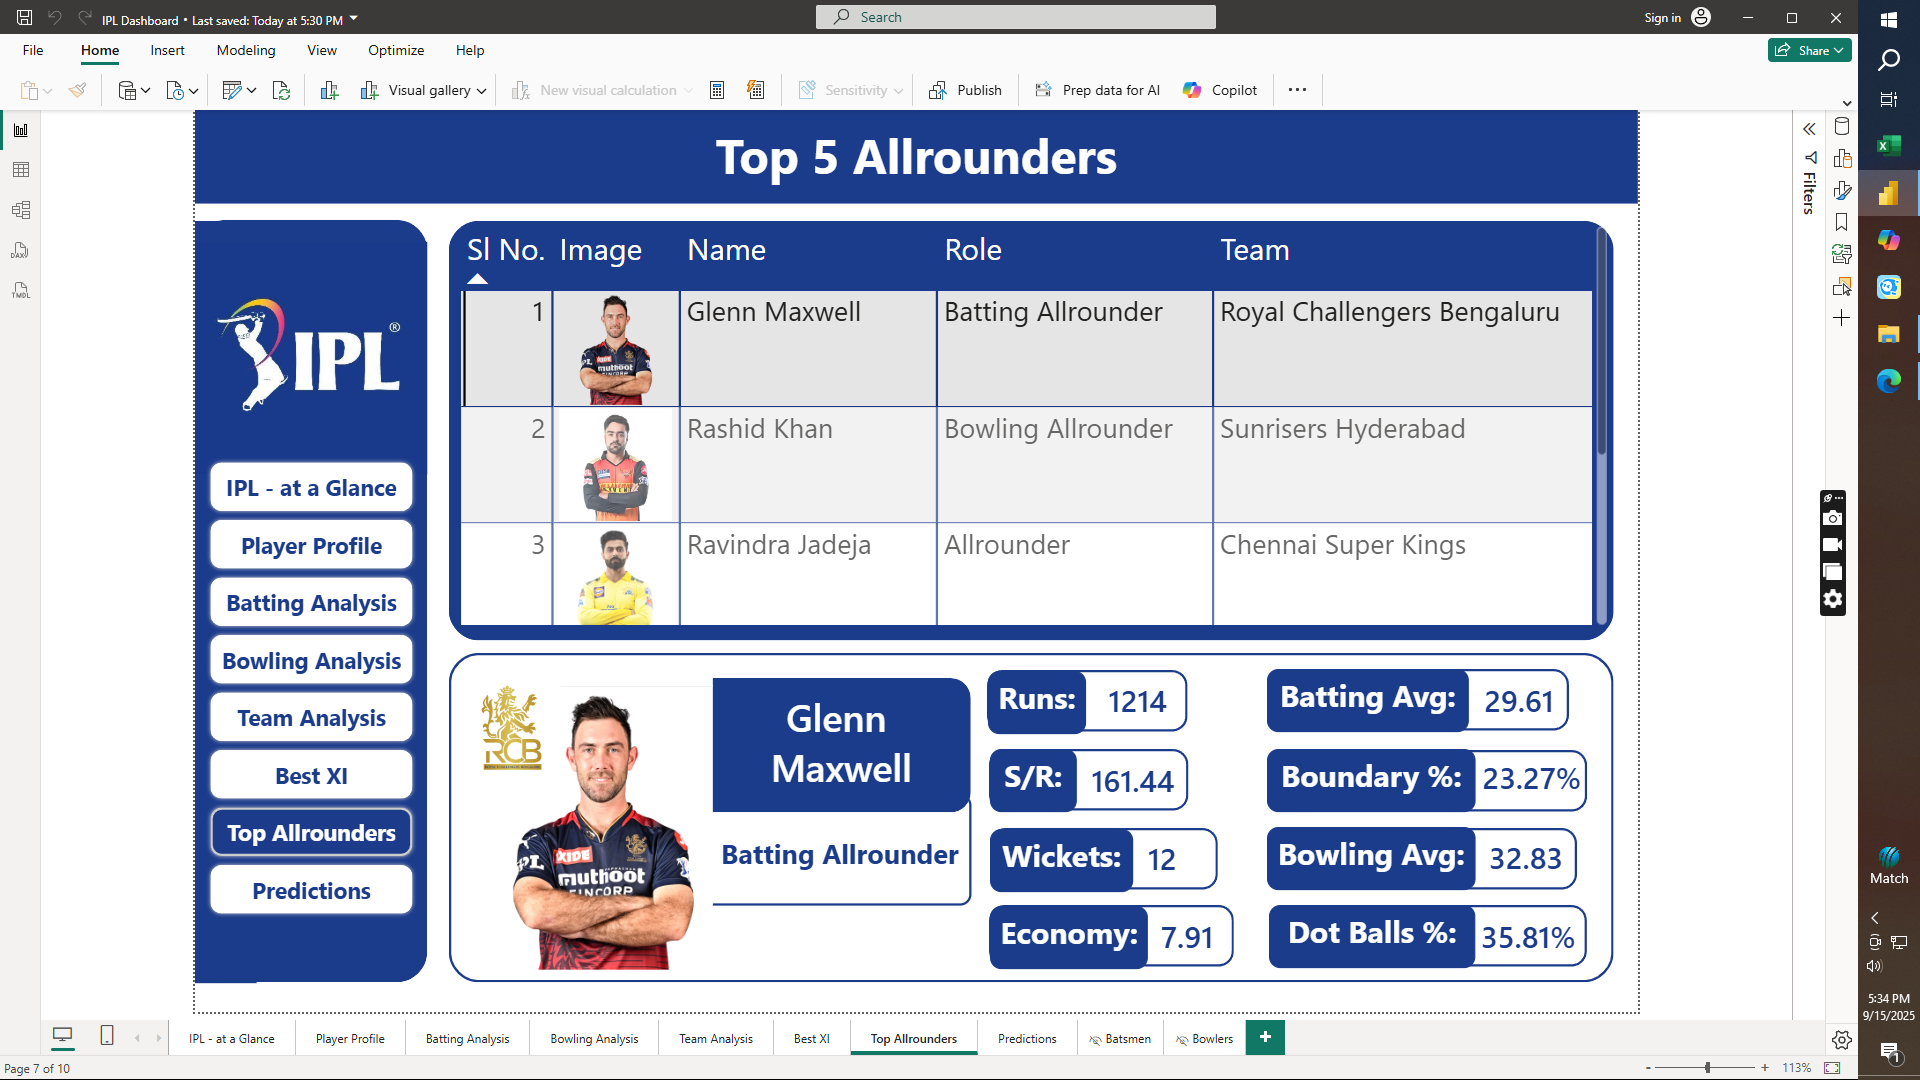

Layout of this report page (visuals, bound fields, positions):
{"tool":"powerbi","page":{"name":"Top Allrounders","canvas":[1280,800],"ordinal":6},"visuals":[{"type":"shape","box":[0,0,1279.7,83.1],"z":0,"group":"g5"},{"type":"card","fields":{"Values":["_Measures.Strike Rate"]},"box":[77.8,0,99,62.7],"z":0,"group":"g3"},{"type":"card","fields":{"Values":["_Measures.Strike Rate"]},"box":[87.8,10,99,62.7],"z":0,"group":"g4"},{"type":"card","fields":{"Values":["_Measures.Strike Rate"]},"box":[97.8,20,99,62.7],"z":0,"group":"g2"},{"type":"card","fields":{"Values":["_Measures.Batting Avg"]},"box":[1129.8,493.1,88.9,62.7],"z":0,"group":"g6"},{"type":"shape","box":[250,504,438,119.2],"z":0,"group":"g7"},{"type":"card","fields":{"Values":["_Measures.Strike Rate"]},"box":[782.6,564.1,99,62.7],"z":0,"group":"g1"},{"type":"card","fields":{"Values":["Min(dim_players.Role)"]},"box":[449.3,606.9,239.4,98.5],"z":0},{"type":"textbox","box":[0,4.9,1279.7,73.2],"z":1000,"group":"g5"},{"type":"card","fields":{"Values":["Min(Best Allrounders.Name)"]},"box":[461.4,500.5,224.2,111.5],"z":1000,"group":"g7"},{"type":"textbox","box":[704.8,567.1,76.8,55.6],"z":1000},{"type":"textbox","box":[703.3,497.2,86.9,55.6],"z":2000},{"type":"group","id":"g1","title":"Group 2","box":[782.6,564.1,99,62.7],"z":3000},{"type":"shape","box":[703.8,567.1,176.8,54.6],"z":4000},{"type":"card","fields":{"Values":["_Measures.Boundary Percentage"]},"box":[1135.8,561.9,99,63.7],"z":5000},{"type":"textbox","box":[950.9,566.9,184.9,55.6],"z":6000},{"type":"group","id":"g2","title":"Group 2","box":[97.8,20,99,62.7],"z":7000},{"type":"group","id":"g3","title":"Group 2","box":[77.8,0,99,62.7],"z":8000},{"type":"group","id":"g4","title":"Group 2","box":[87.8,10,99,62.7],"z":9000},{"type":"card","fields":{"Values":["_Measures.Total Runs"]},"box":[790.7,493.4,89.9,62.7],"z":10000},{"type":"textbox","box":[950.9,496.2,178.9,55.6],"z":11000},{"type":"group","id":"g5","title":"Group 1","box":[0,0,1279.3,82.9],"z":12000},{"type":"shape","box":[225.3,98,1032.8,371.9],"z":13000},{"type":"shape","box":[702.8,496.4,177.9,54.6],"z":14000},{"type":"tableEx","title":"Best Playing XI","fields":{"Values":["Best Allrounders.Sl No.","dim_players.Image","Best Allrounders.Name","dim_players.Role","dim_players.team"]},"box":[225.5,98.8,1031.6,366.1],"z":15000},{"type":"group","id":"g6","title":"Group 2","box":[1129.8,493.1,88.9,62.7],"z":16000},{"type":"shape","box":[958,496.2,260.7,54.6],"z":17000},{"type":"textbox","box":[704.8,705.6,140.5,55.6],"z":18000},{"type":"textbox","box":[704.8,637.9,127.3,55.6],"z":19000},{"type":"shape","box":[950.9,567.9,284,54.6],"z":20000},{"type":"cardVisual","fields":{"Data":["_Measures.Total Wickets"]},"box":[845.3,632.8,70.7,62.7],"z":21000},{"type":"shape","box":[704.8,636.9,202.1,54.6],"z":22000},{"type":"textbox","box":[950.9,635.6,184.9,55.6],"z":23000},{"type":"cardVisual","fields":{"Data":["_Measures.Bowling Average"]},"box":[1148,632.6,70.7,62.7],"z":24000},{"type":"shape","box":[950.9,636.6,275,54.6],"z":25000},{"type":"cardVisual","fields":{"Data":["_Measures.Bowler's Economy"]},"box":[856.4,702.5,70.7,62.7],"z":26000},{"type":"shape","box":[704.3,705.3,217.3,54.6],"z":27000},{"type":"textbox","box":[952.9,705.3,182.9,55.6],"z":28000},{"type":"cardVisual","fields":{"Data":["_Measures.Dot Ball Percentahge"]},"box":[1140.9,702.3,89.9,62.7],"z":29000},{"type":"shape","box":[952.9,705.3,281.9,54.6],"z":30000},{"type":"shape","box":[0,98,54.6,676],"z":31000},{"type":"shape","box":[0,98,205.9,676],"z":32000},{"type":"image","box":[0,110.3,205.9,219.7],"z":33000},{"type":"pageNavigator","box":[9.9,308.4,187.2,410.8],"z":34000},{"type":"group","id":"g7","title":"Group 3","box":[250,500.5,438,122.7],"z":35000},{"type":"tableEx","title":"Best Playing XI","fields":{"Values":["dim_players.Image"]},"box":[225.3,490.2,249.7,283.4],"z":36000},{"type":"tableEx","title":"Team Analysis","fields":{"Values":["dim_players.Team Logo"]},"box":[225.3,469.3,125.4,135.9],"z":37000},{"type":"shape","box":[225.3,482,1032.8,292],"z":38000}]}

Visuals, with their boxes on the page's 1280x800 design canvas (x1, y1, x2, y2). These are canvas units, not pixel positions in the 1920x1080 screenshot, which may show the page scaled, cropped or inside an application window:
shape: (0,0,1280,83)
card - _Measures.Strike Rate: (78,0,177,63)
card - _Measures.Strike Rate: (88,10,187,73)
card - _Measures.Strike Rate: (98,20,197,83)
card - _Measures.Batting Avg: (1130,493,1219,556)
shape: (250,504,688,623)
card - _Measures.Strike Rate: (783,564,882,627)
card - Min(dim_players.Role): (449,607,689,705)
textbox: (0,5,1280,78)
card - Min(Best Allrounders.Name): (461,500,686,612)
textbox: (705,567,782,623)
textbox: (703,497,790,553)
"Group 2" group: (783,564,882,627)
shape: (704,567,881,622)
card - _Measures.Boundary Percentage: (1136,562,1235,626)
textbox: (951,567,1136,622)
"Group 2" group: (98,20,197,83)
"Group 2" group: (78,0,177,63)
"Group 2" group: (88,10,187,73)
card - _Measures.Total Runs: (791,493,881,556)
textbox: (951,496,1130,552)
"Group 1" group: (0,0,1279,83)
shape: (225,98,1258,470)
shape: (703,496,881,551)
"Best Playing XI" tableEx: (226,99,1257,465)
"Group 2" group: (1130,493,1219,556)
shape: (958,496,1219,551)
textbox: (705,706,845,761)
textbox: (705,638,832,694)
shape: (951,568,1235,622)
cardVisual - _Measures.Total Wickets: (845,633,916,696)
shape: (705,637,907,692)
textbox: (951,636,1136,691)
cardVisual - _Measures.Bowling Average: (1148,633,1219,695)
shape: (951,637,1226,691)
cardVisual - _Measures.Bowler's Economy: (856,702,927,765)
shape: (704,705,922,760)
textbox: (953,705,1136,761)
cardVisual - _Measures.Dot Ball Percentahge: (1141,702,1231,765)
shape: (953,705,1235,760)
shape: (0,98,55,774)
shape: (0,98,206,774)
image: (0,110,206,330)
pageNavigator: (10,308,197,719)
"Group 3" group: (250,500,688,623)
"Best Playing XI" tableEx: (225,490,475,774)
"Team Analysis" tableEx: (225,469,351,605)
shape: (225,482,1258,774)
